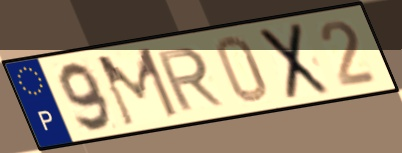0: (214, 34, 272, 106)
2: (319, 18, 378, 89)
9: (56, 59, 114, 133)
M: (93, 45, 183, 130)
R: (152, 45, 227, 114)
X: (256, 19, 333, 103)
